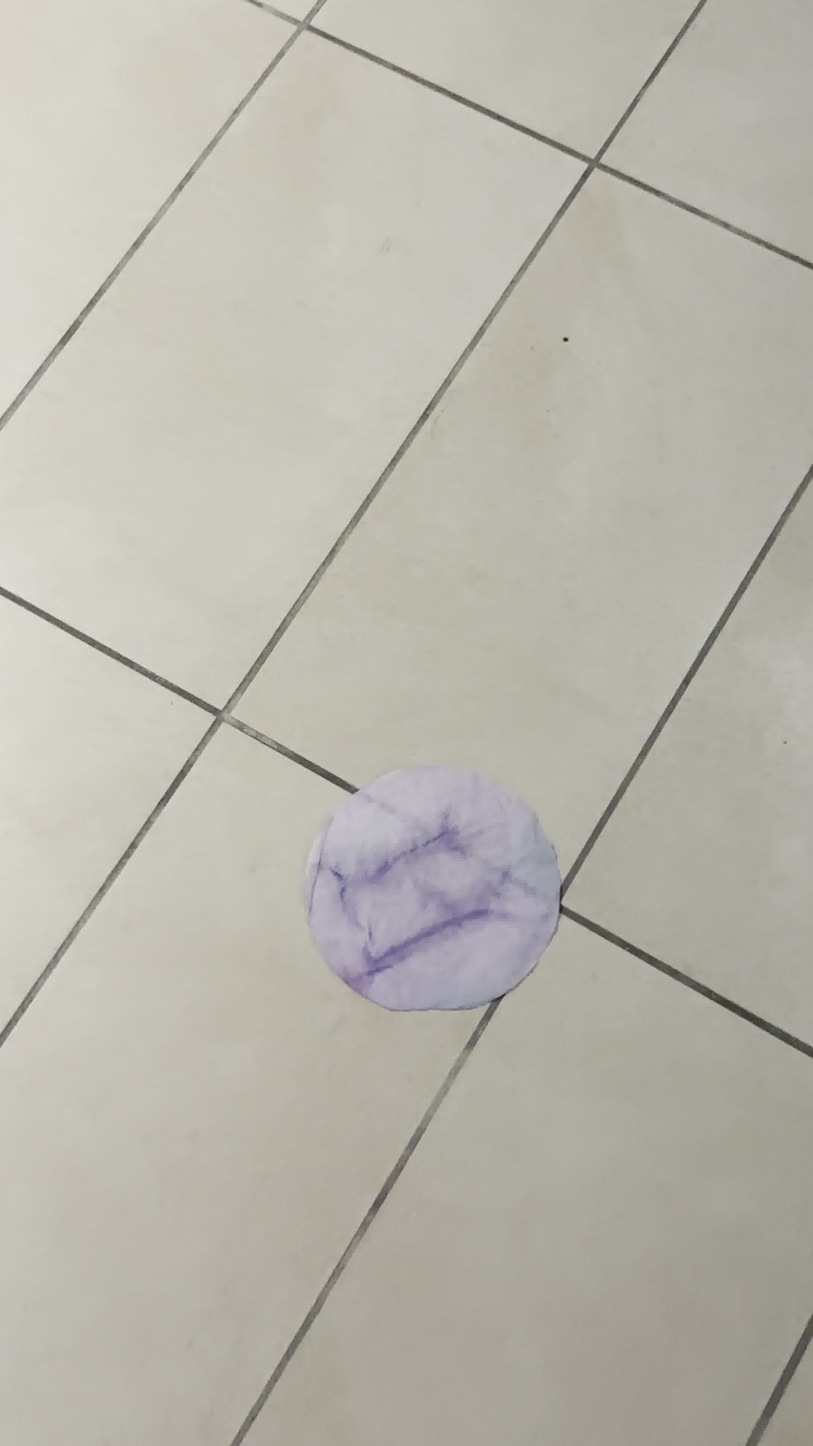Target: (304, 763, 559, 1016)
